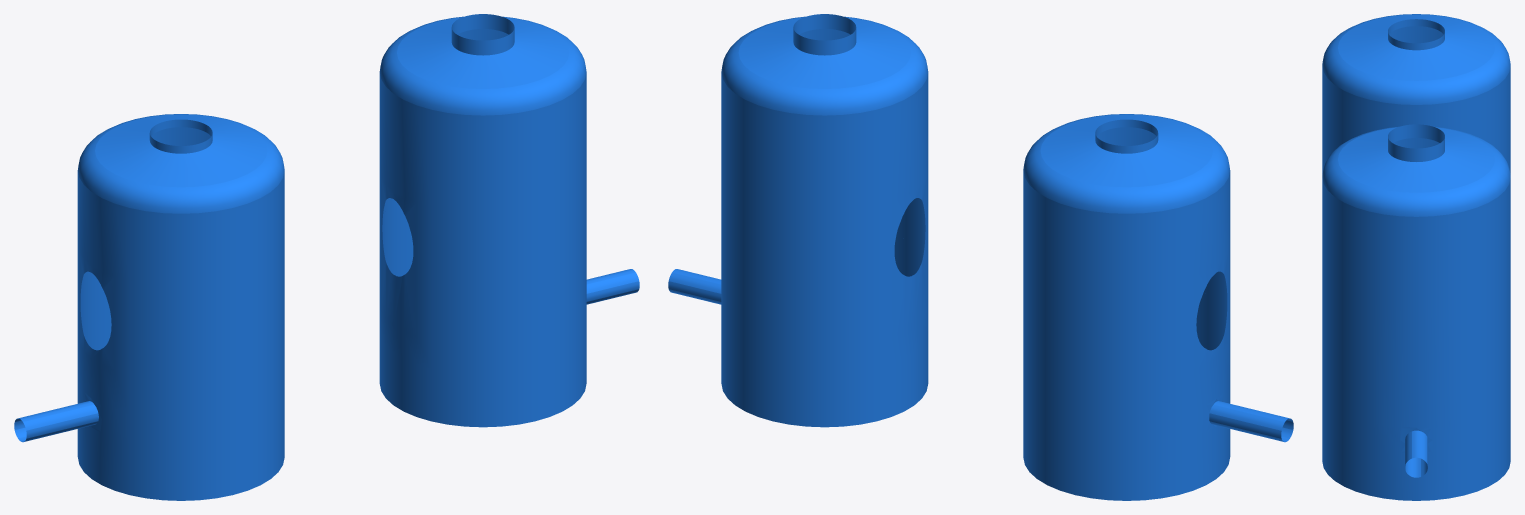
File: waike.fbx
3 renders of one model, left to right at view 1: azimuth 30°, elevation 25°; view 2: azimuth 150°, elevation 25°; view 3: azimuth 270°, elevation 25°, orthographic. The views are drawn at different scales.
Parts seen in each view (by area): view 1: 圆柱_13, 圆柱_17; view 2: 圆柱_13, 圆柱_17; view 3: 圆柱_13, 圆柱_17.
Part boxes in pixels (<box>): 圆柱_13: <box>379,14,639,427</box>; 圆柱_17: <box>14,114,284,500</box>; 圆柱_13: <box>668,14,928,427</box>; 圆柱_17: <box>1023,114,1293,500</box>; 圆柱_13: <box>1322,124,1510,500</box>; 圆柱_17: <box>1322,14,1510,174</box>.
Size of the model in its own units: 684 by 380 by 200.
